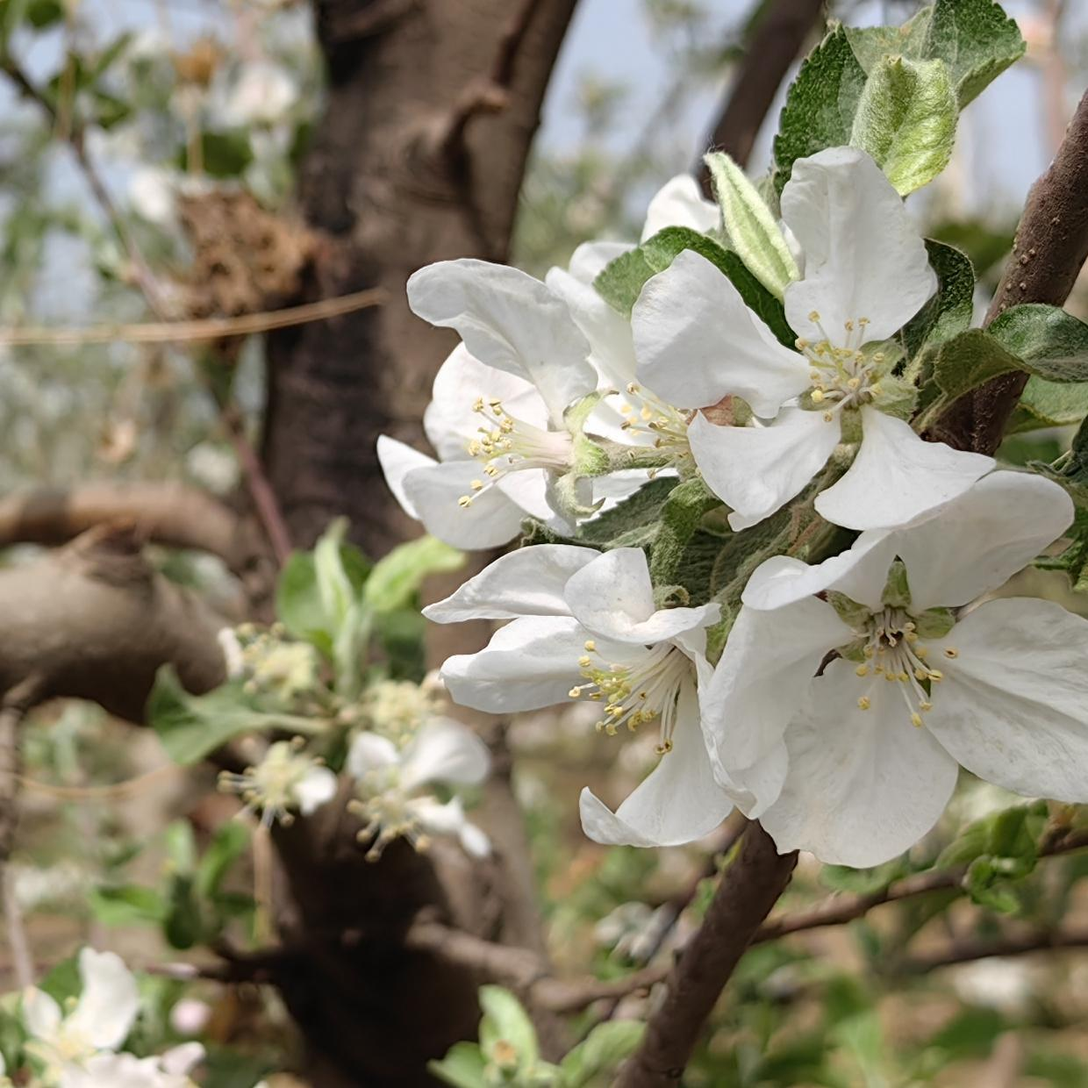apple_flower: (384, 145, 1088, 866), (0, 949, 202, 1088)
